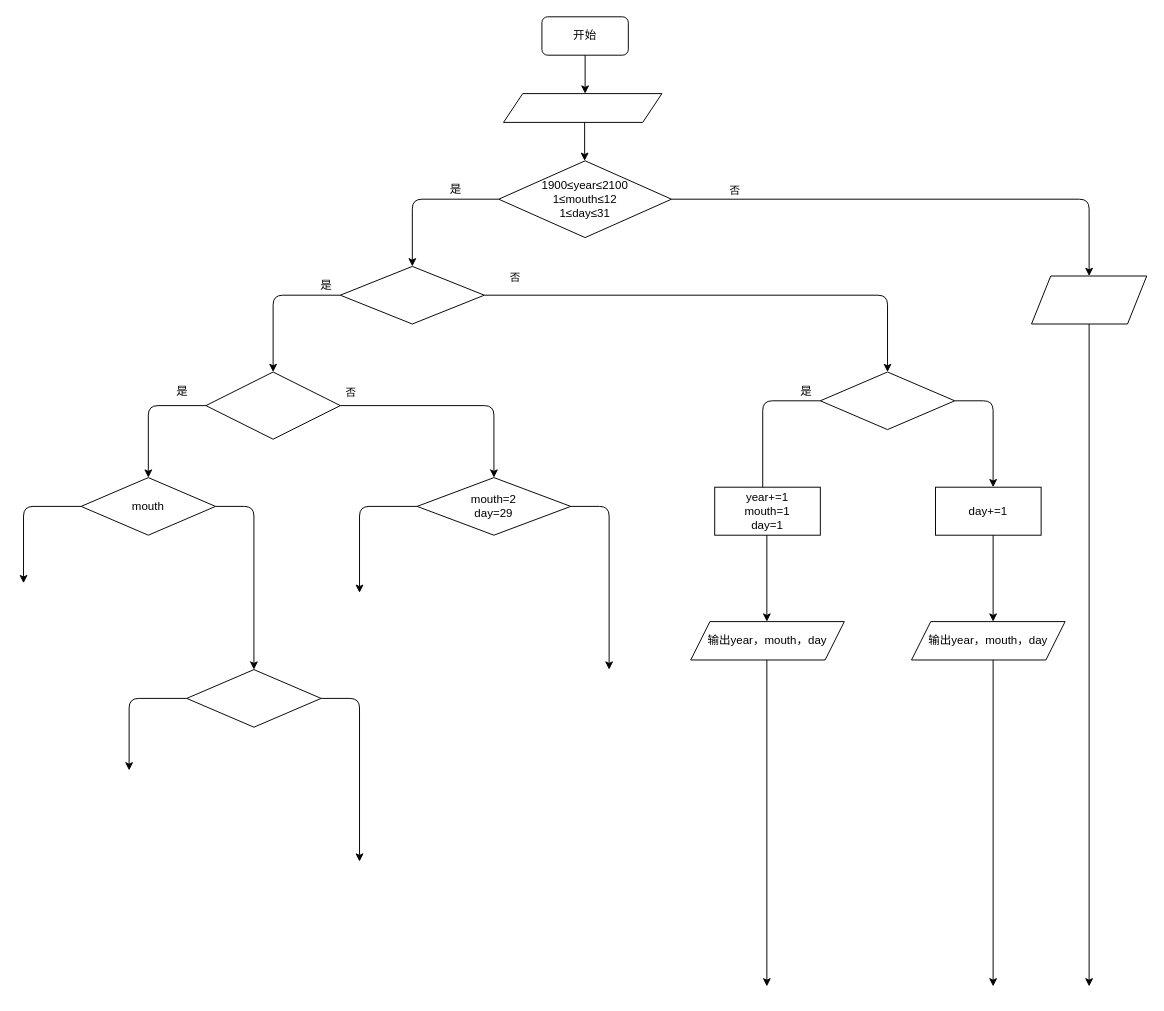
Image size: 1164x1011. Some labels were removed from this diagram. The shapes that lost their labels are listed below. From the top down, each one's centre as x and y in pixels, then its label:
At point (582, 107): "输入year，mouth，day".
At point (1089, 299): "超出范围".
At point (272, 405): "year/4==0".
At point (887, 400): "day=31".
